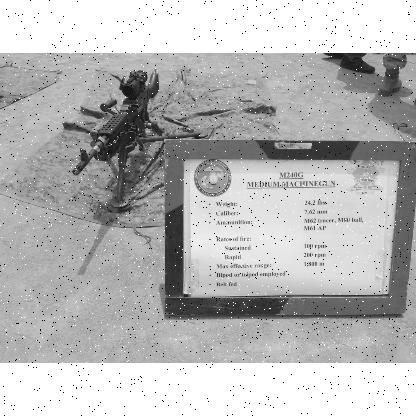gun: (70, 66, 166, 208)
